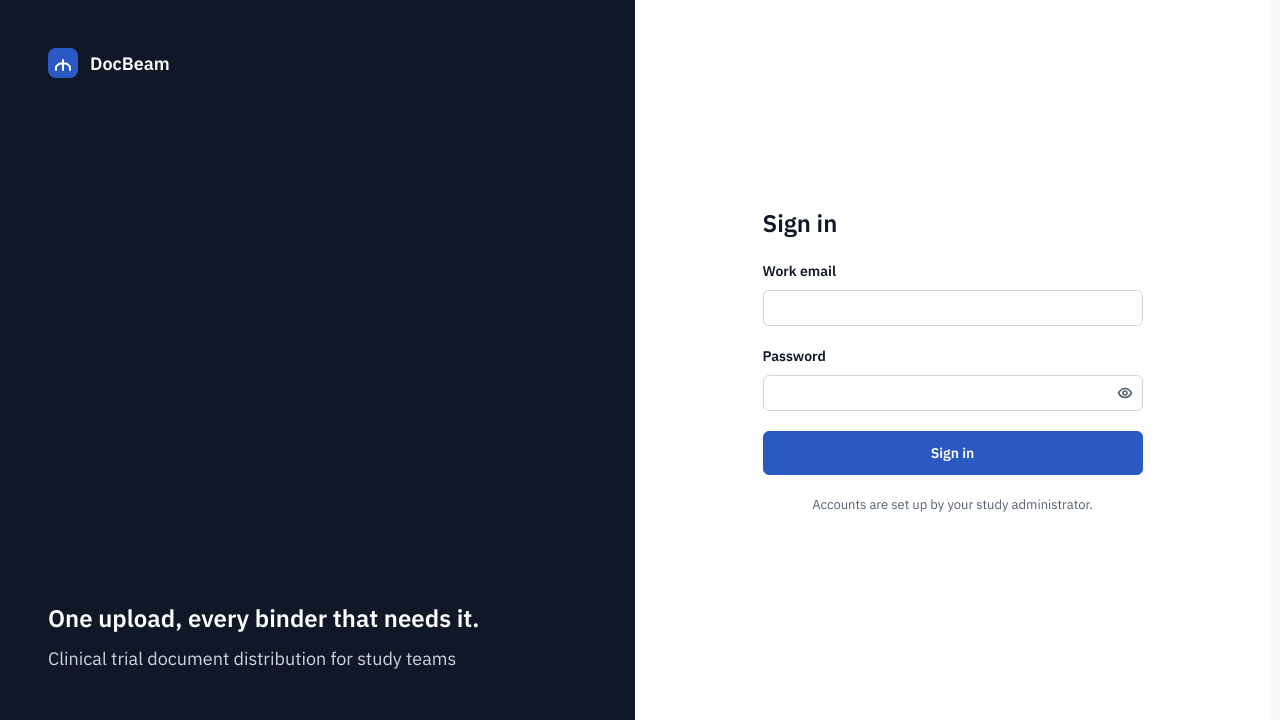
Test: the sign-in pause note (D-M3-13) › shows the same fixed line under a wrong password
The width and height of the screenshot is (1280, 720).
Step 1. Type "someone@example.com" into the field labelled "Work email" → (952,308), box [762,290,1142,326]
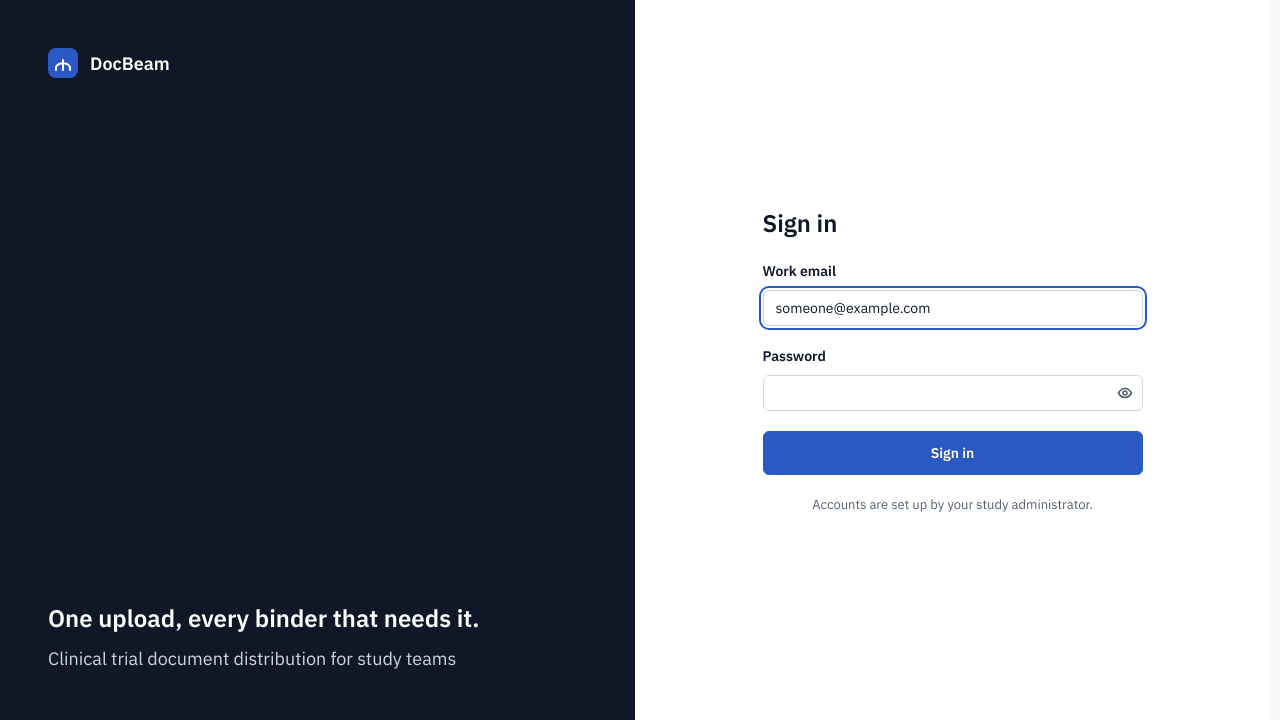
Step 2. Type "not-the-password" into the password field labelled "Password" → (952,393), box [762,375,1142,411]
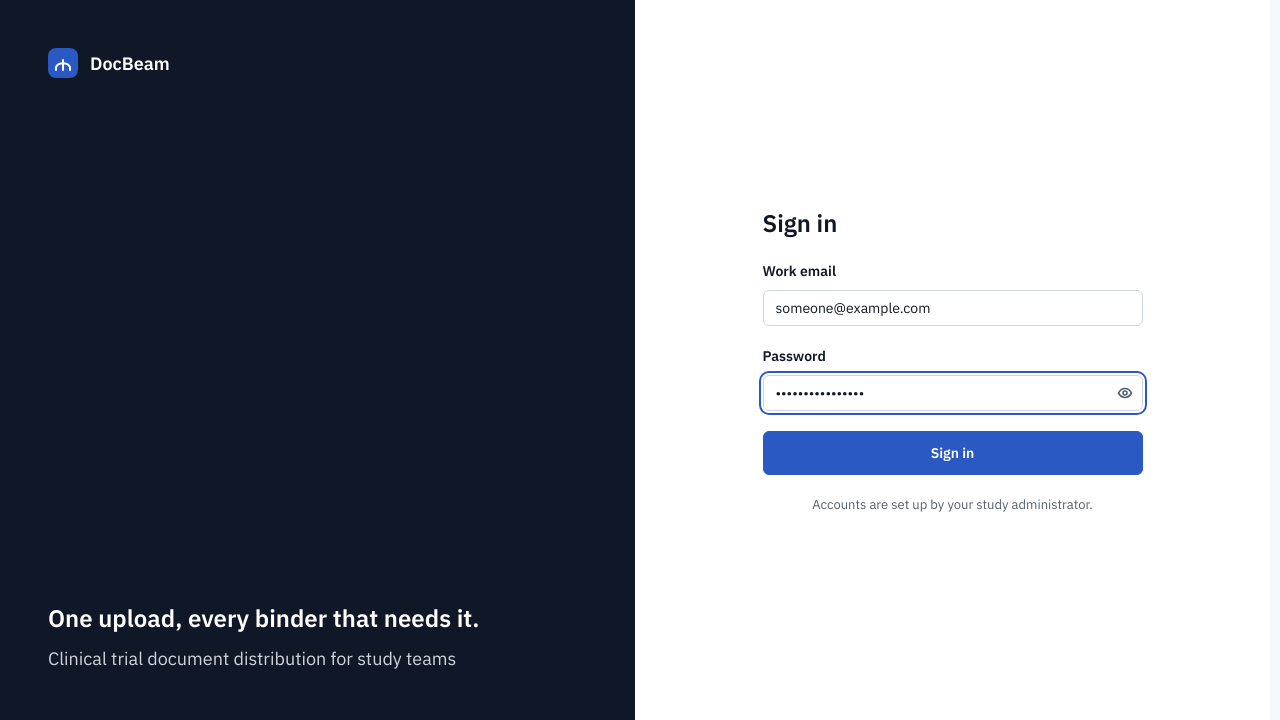
Step 3. Click the button "Sign in" → (952,453), box [762,431,1142,475]
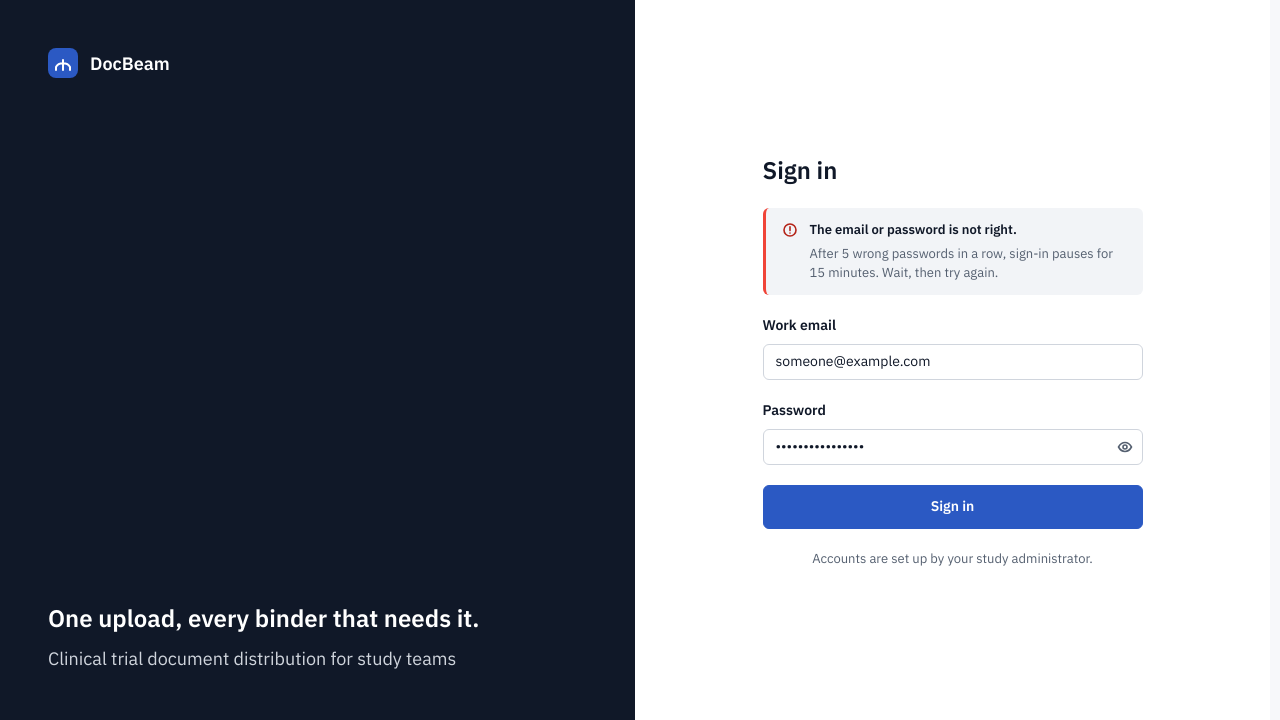
expect the message shows "The email or password is not right.": met, box [810,221,1017,238]
expect the text with test id "pause-note" shows "After 5 wrong passwords in a row, sign-in pauses for 15 minutes. Wait, then try again.": met, box [810,244,1113,281]
